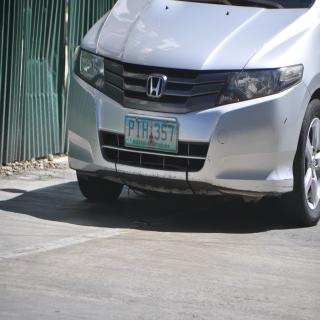license: (125, 117, 179, 153)
